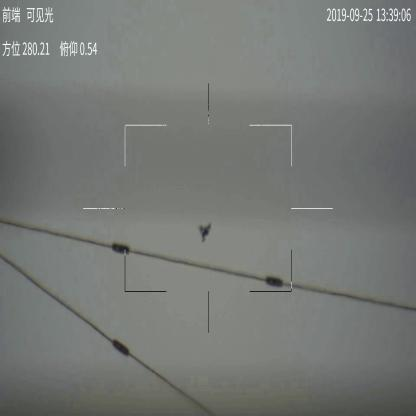uav: (198, 221, 212, 244)
